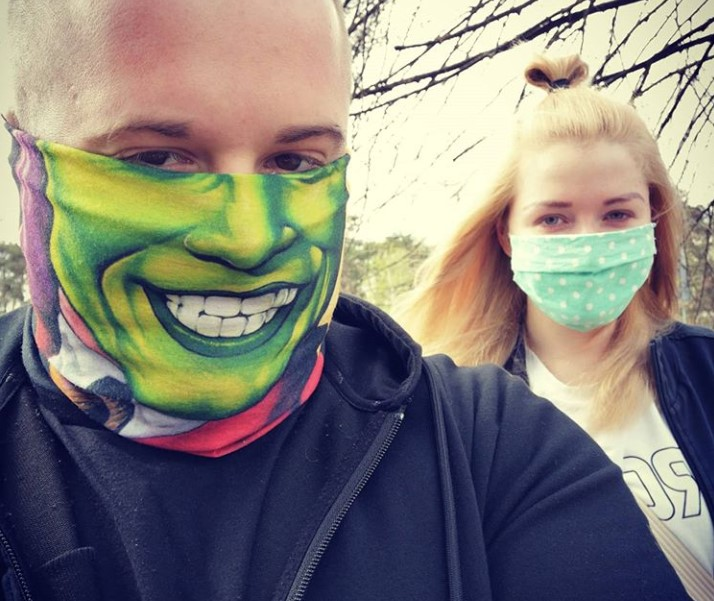face_with_mask: (489, 97, 666, 337)
